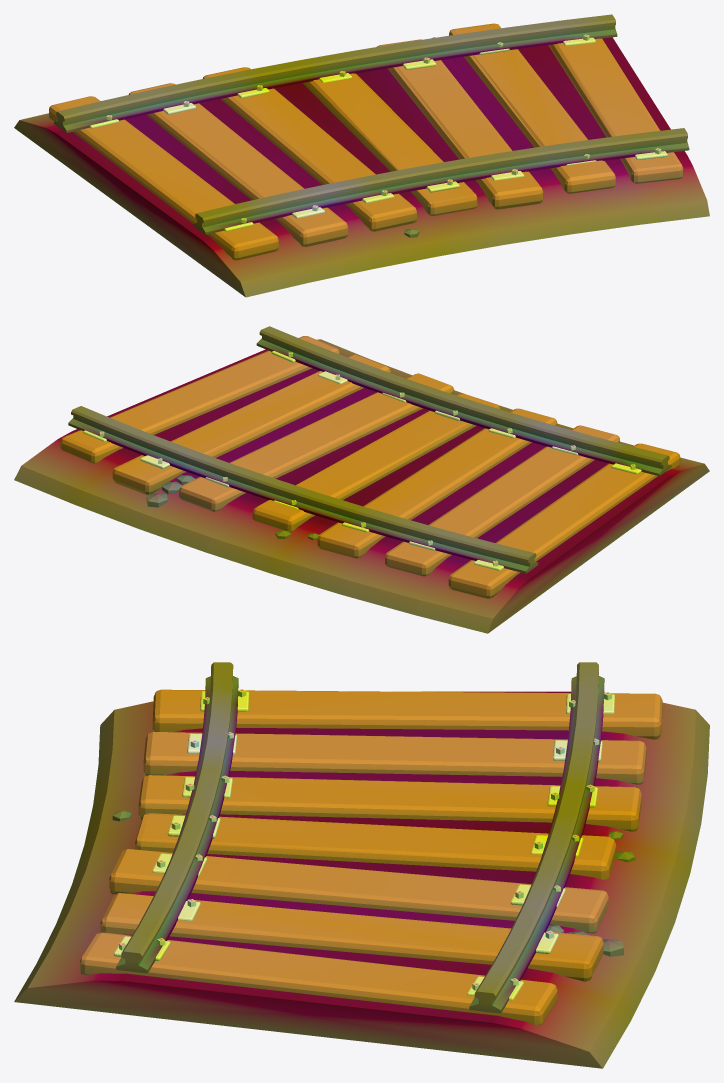
File: Track_Curve_R20_15_A.fbx
The picture shows the model from 3 angles, top to bottom: view 1: azimuth 30°, elevation 25°; view 2: azimuth 150°, elevation 25°; view 3: azimuth 270°, elevation 25°; orthographic projection. The views are drawn at different scales.
Parts seen in each view (by area): view 1: Track_Curve_R20_15_A; view 2: Track_Curve_R20_15_A; view 3: Track_Curve_R20_15_A.
Boxes of the visible parts, box(x1,y1,x2,y2) form: Track_Curve_R20_15_A: box(14, 14, 709, 297); Track_Curve_R20_15_A: box(14, 326, 709, 633); Track_Curve_R20_15_A: box(14, 662, 709, 1068).
Size of the model in its own units: 5.73 by 0.49 by 4.91.
